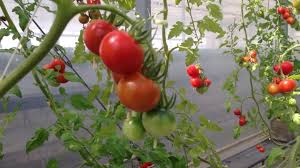tomato: (97, 32, 145, 74), (114, 73, 162, 113), (82, 20, 115, 52), (277, 75, 297, 93), (266, 81, 281, 97), (280, 62, 294, 77), (189, 76, 205, 89)
